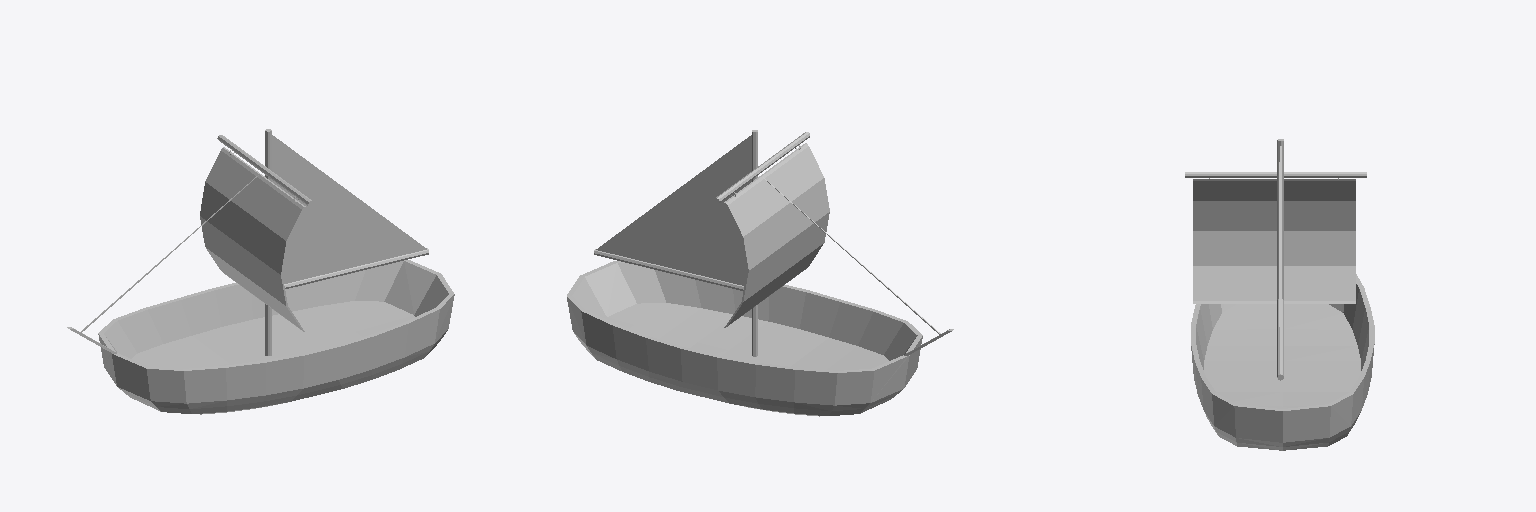
The model's file is boat.obj.
3 renders of one model, left to right at view 1: azimuth 30°, elevation 25°; view 2: azimuth 150°, elevation 25°; view 3: azimuth 270°, elevation 25°, orthographic.
Visible parts, largest first — view 1: Boat_A7; view 2: Boat_A7; view 3: Boat_A7.
Boxes of the visible parts, <box> form: Boat_A7: <box>67,129,454,414</box>; Boat_A7: <box>567,130,953,416</box>; Boat_A7: <box>1185,139,1374,450</box>.
Bounding box in the file's own units: 7.17 × 4.49 × 3.15.